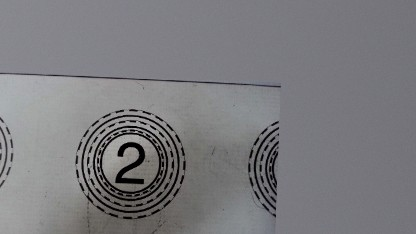2r: (71, 105, 187, 221)
